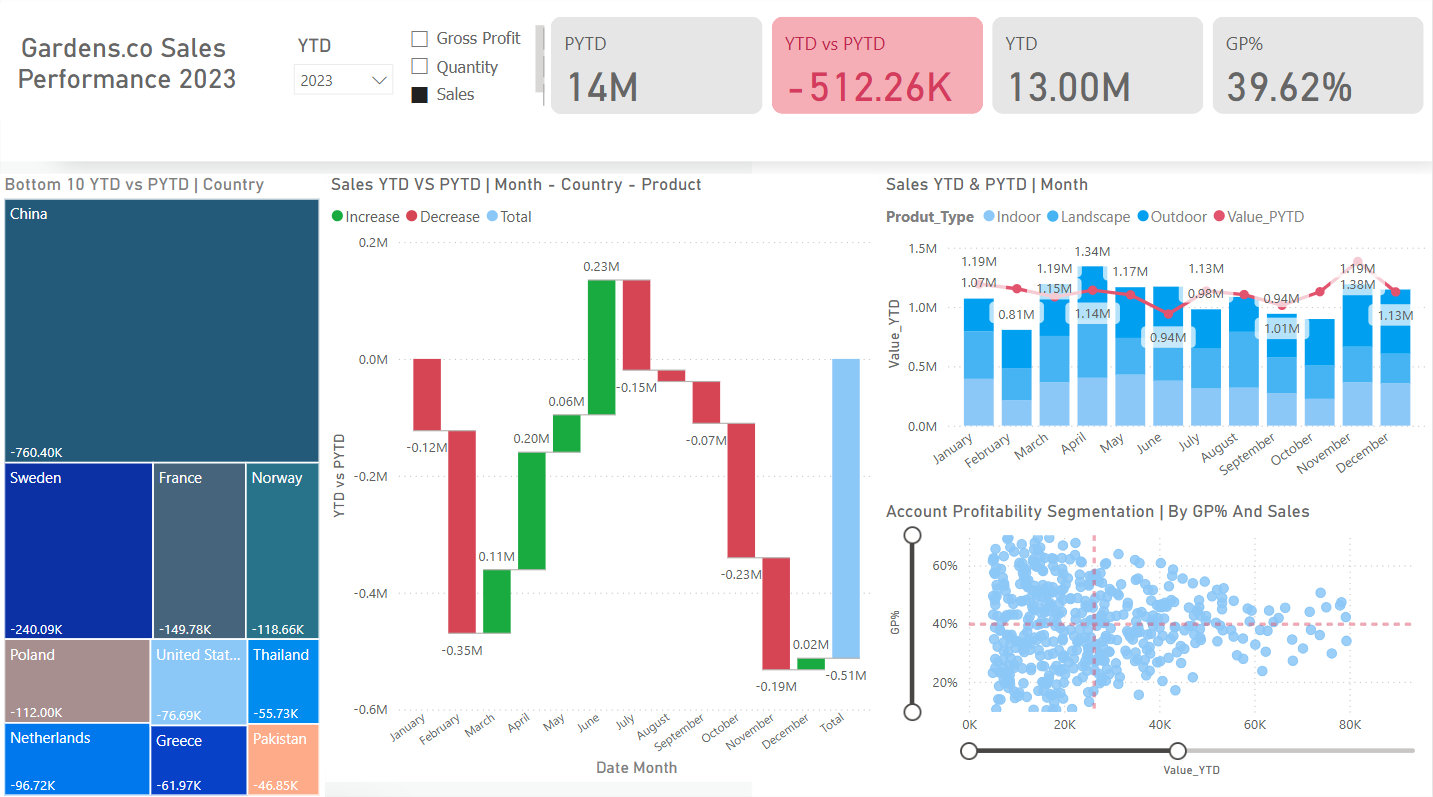

This screenshot's page, from the dashboard's own definition file:
{"tool":"powerbi","page":{"name":"Performance_report","canvas":[1280,720],"ordinal":0},"visuals":[{"type":"cardVisual","fields":{"Data":["formulas.sl_PYTD","formulas.YTD vs PYTD","formulas.sl_YTD","formulas.GP%"]},"box":[488,14.5,792.8,97.1],"z":0},{"type":"slicer","fields":{"Values":["slicer_values.Values"]},"box":[358.4,24.6,129.5,78.2],"z":1000},{"type":"slicer","fields":{"Values":["date_data.Date.Variation.Date Hierarchy.Year"]},"box":[254.6,31.3,103.8,64.8],"z":2000},{"type":"treemap","title":"Bottom 10 YTD vs PYTD | Country","fields":{"Values":["formulas.YTD vs PYTD"],"Group":["Accounts_data.country"]},"box":[0,159.7,291.4,560.5],"z":3000},{"type":"waterfallChart","fields":{"Y":["formulas.YTD vs PYTD"],"Category":["date_data.Date.Variation.Date Hierarchy.Month","Accounts_data.country","product_data.Produt_Type","product_data.Product_Name"]},"box":[291.8,159.4,495.3,543.1],"z":4000},{"type":"lineStackedColumnComboChart","fields":{"Y":["formulas.sl_YTD"],"Y2":["formulas.sl_PYTD"],"Category":["date_data.Date.Variation.Date Hierarchy.Month","date_data.Date.Variation.Date Hierarchy.Quarter"],"Series":["product_data.Produt_Type"]},"box":[787.1,159.4,492.9,293],"z":5000},{"type":"scatterChart","fields":{"Y":["formulas.GP%"],"X":["formulas.sl_YTD"],"Category":["Accounts_data.Account"]},"box":[787.4,452.3,492.3,250.6],"z":5001},{"type":"card","fields":{"Values":["formulas.Report_title"]},"box":[0,7.8,228.9,103.8],"z":5002}]}

Visuals, with their boxes in screenshot pixels (x1, y1, x2, y2), scaled from the page's 1280x720 canvas onto the 1433x797 screenshot:
cardVisual - formulas.sl_PYTD x formulas.YTD vs PYTD: {"left": 546, "top": 16, "right": 1432, "bottom": 124}
slicer - slicer_values.Values: {"left": 401, "top": 27, "right": 546, "bottom": 114}
slicer - date_data.Date.Variation.Date Hierarchy.Year: {"left": 285, "top": 35, "right": 401, "bottom": 106}
"Bottom 10 YTD vs PYTD | Country" treemap: {"left": 0, "top": 177, "right": 326, "bottom": 796}
waterfallChart - formulas.YTD vs PYTD x date_data.Date.Variation.Date Hierarchy.Month: {"left": 327, "top": 176, "right": 881, "bottom": 778}
lineStackedColumnComboChart - formulas.sl_YTD x formulas.sl_PYTD: {"left": 881, "top": 176, "right": 1432, "bottom": 501}
scatterChart - formulas.GP% x formulas.sl_YTD: {"left": 882, "top": 501, "right": 1432, "bottom": 778}
card - formulas.Report_title: {"left": 0, "top": 9, "right": 256, "bottom": 124}
